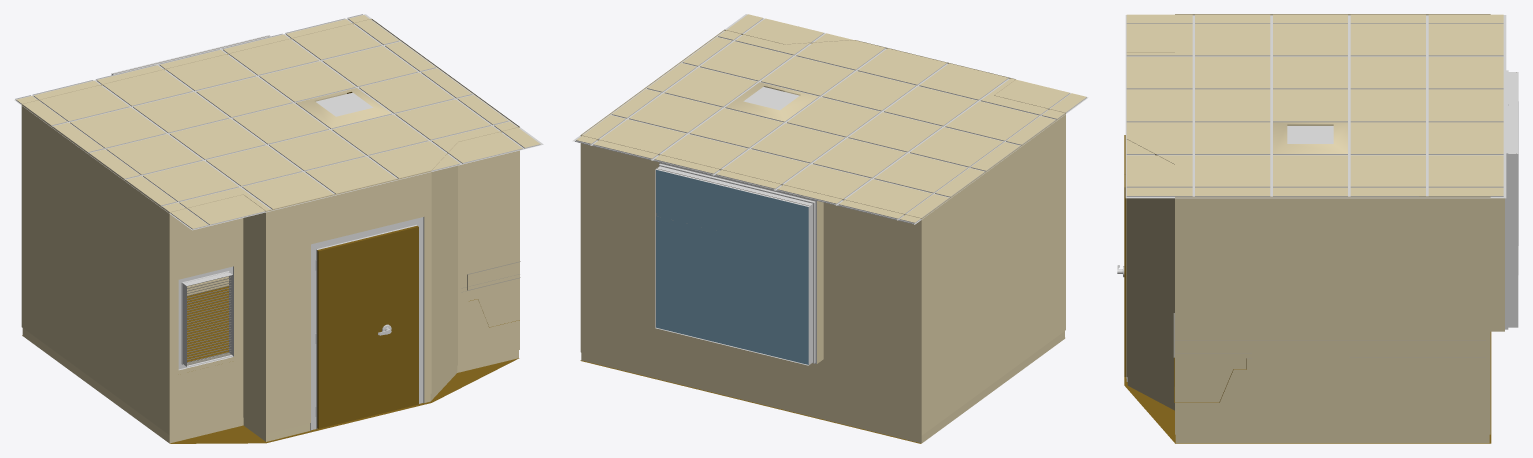
The model's file is MedicineRoom.fbx.
3 views of the same model, side by side, from view 1: azimuth 30°, elevation 25°; view 2: azimuth 150°, elevation 25°; view 3: azimuth 270°, elevation 25° (orthographic). The views are drawn at different scales.
Visible parts, largest first — view 1: Walls3, Ceiling, Door_Entrance, Floor, Blinds_Small; view 2: Walls3, Ceiling; view 3: Walls3, Ceiling, Floor.
Part boxes in pixels (box(x1,y1,x2,y2)): Walls3: box(21, 18, 520, 443); Ceiling: box(14, 14, 543, 230); Door_Entrance: box(317, 232, 393, 428); Floor: box(22, 286, 518, 443); Blinds_Small: box(187, 275, 231, 365); Walls3: box(580, 29, 1065, 443); Ceiling: box(572, 14, 1088, 224); Walls3: box(1124, 14, 1518, 443); Ceiling: box(1125, 14, 1506, 198); Floor: box(1124, 332, 1491, 443).
Size of the model in its own units: 14.22 by 9.09 by 13.15.
